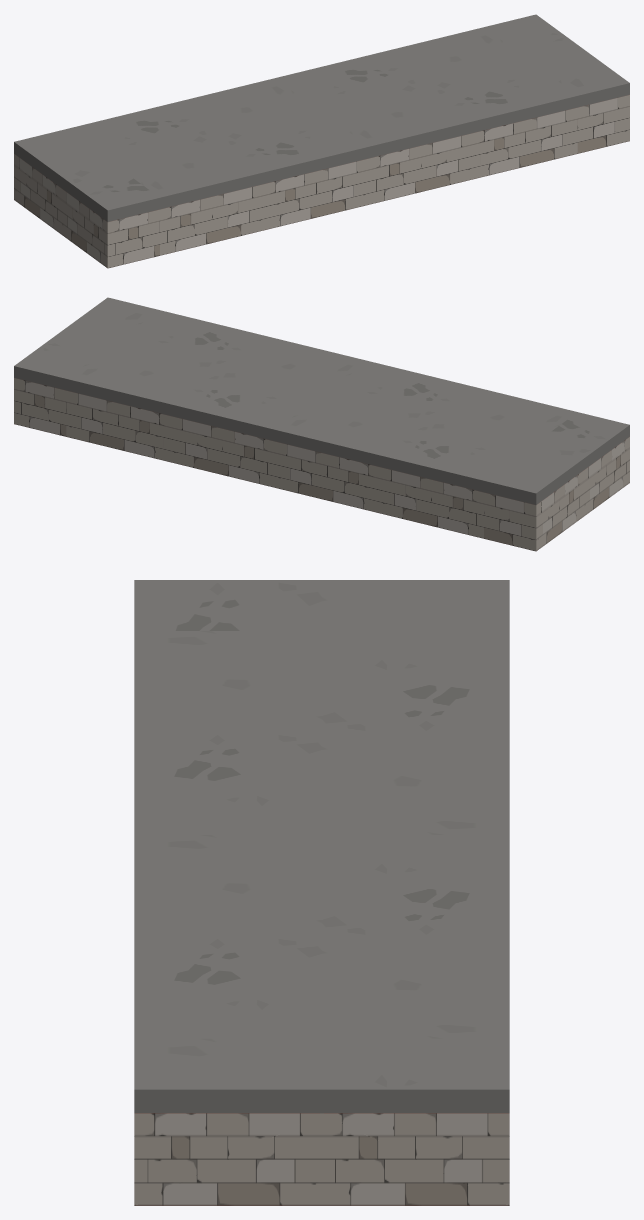
The model's file is SM_Bld_Background_Dock_02.fbx.
3 views of the same model, one above another, from view 1: azimuth 30°, elevation 25°; view 2: azimuth 150°, elevation 25°; view 3: azimuth 270°, elevation 25° (orthographic). The views are drawn at different scales.
Visible parts, largest first — view 1: SM_Bld_Background_Dock_02; view 2: SM_Bld_Background_Dock_02; view 3: SM_Bld_Background_Dock_02.
Part boxes in pixels (x1,y1,x2,y2): SM_Bld_Background_Dock_02: [14, 14, 629, 268]; SM_Bld_Background_Dock_02: [14, 297, 629, 551]; SM_Bld_Background_Dock_02: [134, 580, 509, 1205].
Size of the model in its own units: 2250 by 239 by 700.
